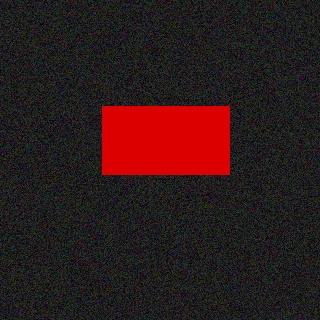red_barrel: (103, 106, 229, 175)
